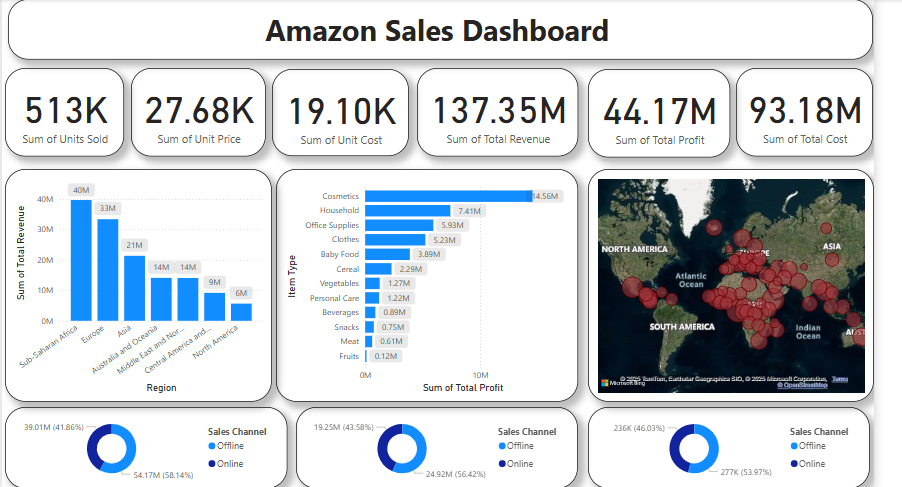

The page's visual inventory and layout, read from the dashboard file:
{"tool":"powerbi","page":{"name":"Page 1","canvas":[1280,720],"ordinal":0},"visuals":[{"type":"textbox","box":[9.4,0,1271.3,89],"z":0},{"type":"card","title":"Total Unit Sold","fields":{"Values":["Sum(Amazon Sales data.Units Sold)"]},"box":[4.7,101.5,174.9,129.6],"z":1000},{"type":"card","fields":{"Values":["Sum(Amazon Sales data.Unit Price)"]},"box":[189,101.5,198.4,129.6],"z":2000},{"type":"card","fields":{"Values":["Sum(Amazon Sales data.Unit Cost)"]},"box":[396.7,103.1,201.5,128.1],"z":3000},{"type":"card","fields":{"Values":["Sum(Amazon Sales data.Total Revenue)"]},"box":[609.1,101.5,237.4,129.6],"z":4000},{"type":"card","fields":{"Values":["Sum(Amazon Sales data.Total Cost)"]},"box":[1079.2,101.5,201.5,129.6],"z":5000},{"type":"card","fields":{"Values":["Sum(Amazon Sales data.Total Profit)"]},"box":[860.6,103.1,209.3,129.6],"z":6000},{"type":"clusteredColumnChart","fields":{"Y":["Sum(Amazon Sales data.Total Revenue)"],"Category":["Amazon Sales data.Region"]},"box":[4.7,249.9,392,342],"z":7000},{"type":"barChart","fields":{"Category":["Amazon Sales data.Item Type"],"Y":["Sum(Amazon Sales data.Total Profit)"]},"box":[403,249.9,443.6,342],"z":8000},{"type":"map","fields":{"Category":["Amazon Sales data.Country"],"Size":["Sum(Amazon Sales data.Units Sold)"]},"box":[860.6,249.9,420.1,342],"z":9000},{"type":"donutChart","fields":{"Category":["Amazon Sales data.Sales Channel"],"Y":["Sum(Amazon Sales data.Total Cost)"]},"box":[4.7,599.7,415.4,120.3],"z":10000},{"type":"donutChart","fields":{"Category":["Amazon Sales data.Sales Channel"],"Y":["Sum(Amazon Sales data.Total Profit)"]},"box":[432.6,599.7,413.9,120.3],"z":11000},{"type":"donutChart","fields":{"Category":["Amazon Sales data.Sales Channel"],"Y":["Sum(Amazon Sales data.Units Sold)"]},"box":[860.6,599.7,413.9,120.3],"z":12000}]}

Visuals, with their boxes on the page's 1280x720 design canvas (x1, y1, x2, y2). These are canvas units, not pixel positions in the 902x487 screenshot, which may show the page scaled, cropped or inside an application window:
textbox: BBox(9, 0, 1281, 89)
"Total Unit Sold" card: BBox(5, 102, 180, 231)
card - Sum(Amazon Sales data.Unit Price): BBox(189, 102, 387, 231)
card - Sum(Amazon Sales data.Unit Cost): BBox(397, 103, 598, 231)
card - Sum(Amazon Sales data.Total Revenue): BBox(609, 102, 846, 231)
card - Sum(Amazon Sales data.Total Cost): BBox(1079, 102, 1281, 231)
card - Sum(Amazon Sales data.Total Profit): BBox(861, 103, 1070, 233)
clusteredColumnChart - Sum(Amazon Sales data.Total Revenue) x Amazon Sales data.Region: BBox(5, 250, 397, 592)
barChart - Amazon Sales data.Item Type x Sum(Amazon Sales data.Total Profit): BBox(403, 250, 847, 592)
map - Amazon Sales data.Country x Sum(Amazon Sales data.Units Sold): BBox(861, 250, 1281, 592)
donutChart - Amazon Sales data.Sales Channel x Sum(Amazon Sales data.Total Cost): BBox(5, 600, 420, 720)
donutChart - Amazon Sales data.Sales Channel x Sum(Amazon Sales data.Total Profit): BBox(433, 600, 846, 720)
donutChart - Amazon Sales data.Sales Channel x Sum(Amazon Sales data.Units Sold): BBox(861, 600, 1274, 720)
